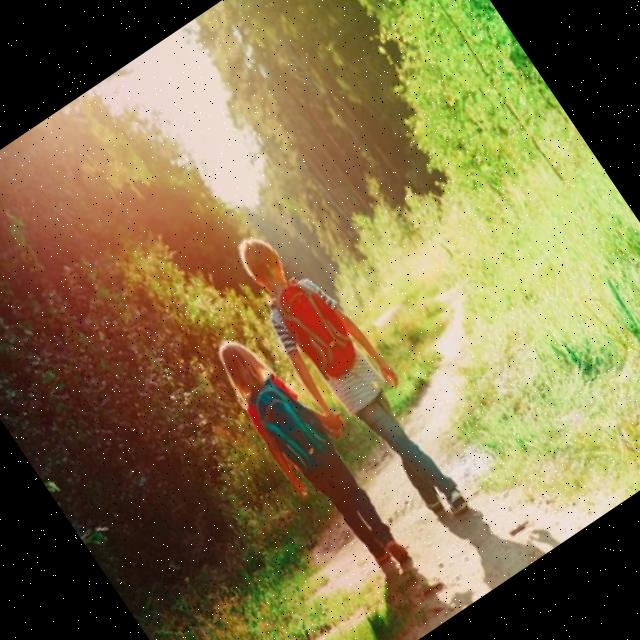Person: (218, 212, 482, 547), (205, 310, 428, 588)
